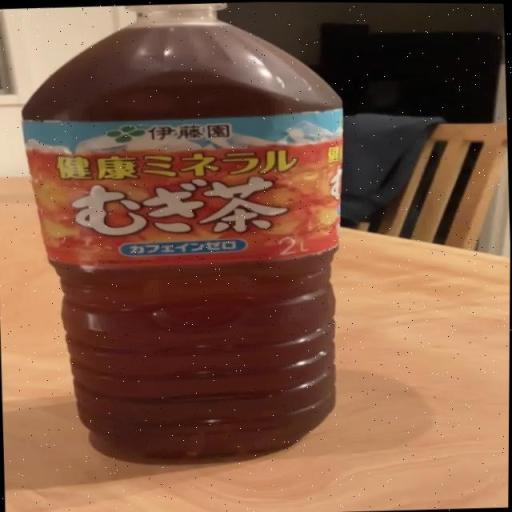plastic: (20, 2, 344, 465)
